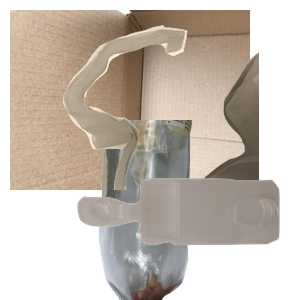cardboard: (10, 10, 250, 190)
glass: (96, 120, 283, 300)
plastic: (75, 176, 300, 300)
trash: (60, 23, 300, 203)
